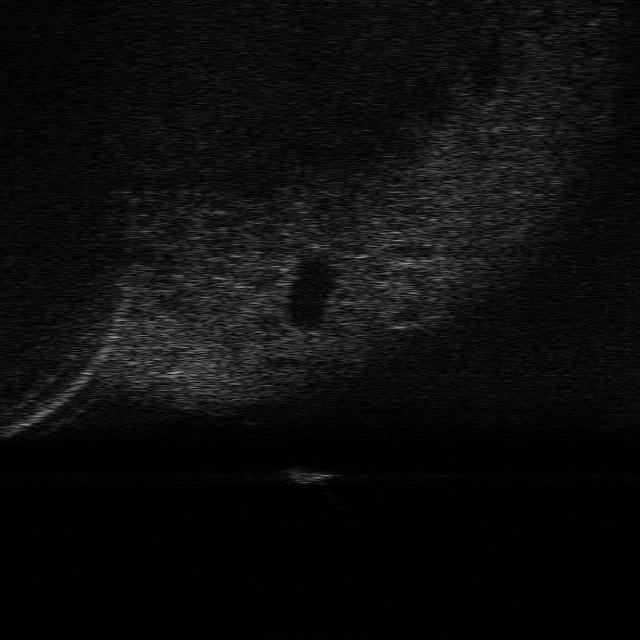cube: (282, 465, 338, 485)
